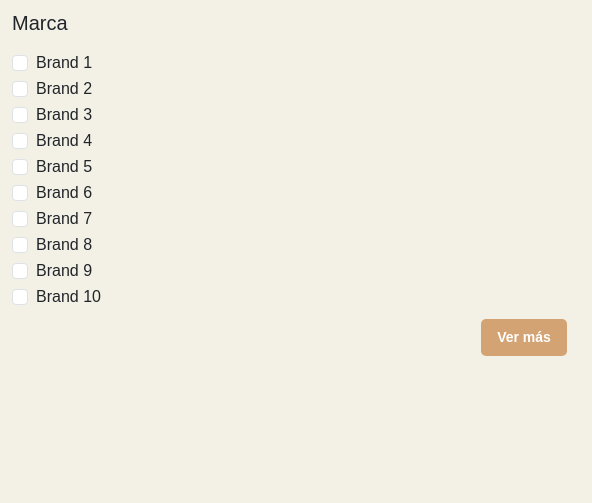
Test: FiltroMarca › TogglesViewMoreAndViewLessButton
Click the button "Ver más" at (524, 338), box [481, 319, 567, 356]
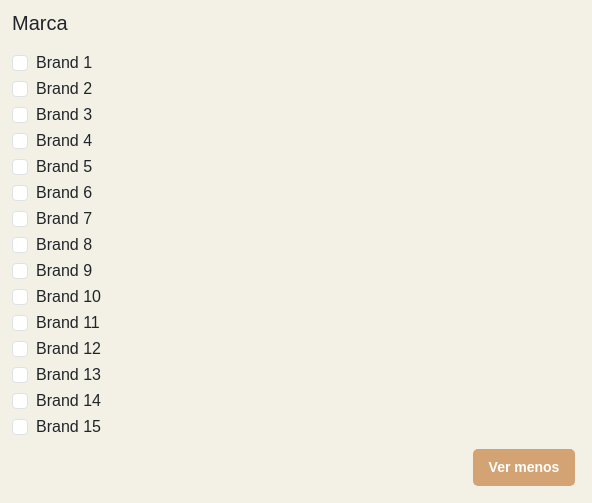
Expected: the button named "Ver más" reads "Ver menos"
Click the button named "Ver más" at (524, 468), box [473, 449, 575, 486]
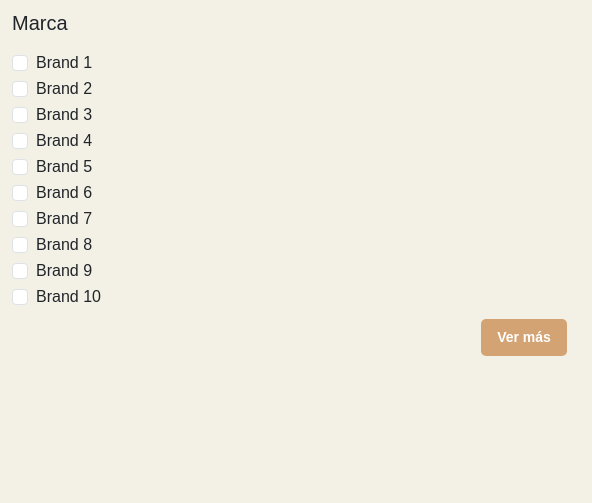
Expected: the button "Ver más" is shown, [481, 319, 567, 356]
